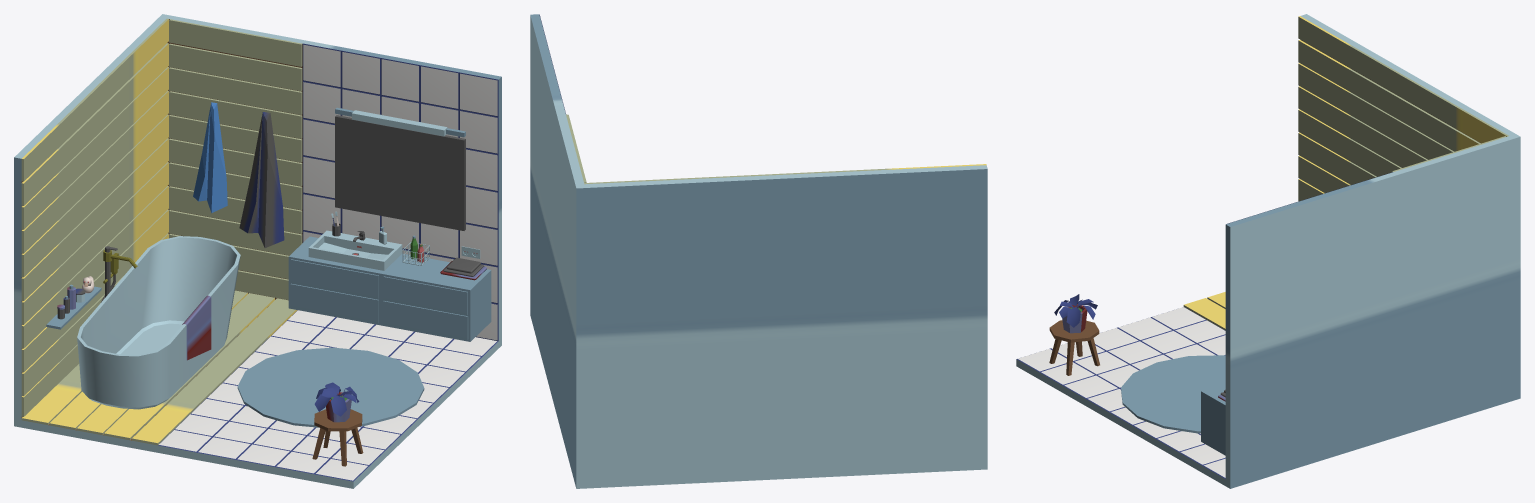
Rendered from Bathroom_2.fbx.
The picture shows the model from 3 angles, left to right: view 1: azimuth 30°, elevation 25°; view 2: azimuth 150°, elevation 25°; view 3: azimuth 270°, elevation 25°; orthographic projection. The views are drawn at different scales.
Visible parts, largest first — view 1: Bathroom2_parquet, Bathroom2_floortile, Bathroom2_bathroom, Bathroom2_washbasin1, Bathroom2_mirror, Bathroom2_base, Bathroom2_carpet, Bathroom2_towel3, Bathroom2_towel4, Bathroom2_stool, Bathroom2_towel, Bathroom2_lighting (+4 smaller); view 2: Bathroom2_base, Bathroom2_parquet; view 3: Bathroom2_base, Bathroom2_parquet, Bathroom2_floortile, Bathroom2_carpet, Bathroom2_washbasin1, Bathroom2_stool, Bathroom2_flower.
Part boxes in pixels (x1=…): Bathroom2_parquet: x1=21, y1=18, x2=302, y2=445; Bathroom2_floortile: x1=158, y1=43, x2=498, y2=481; Bathroom2_bathroom: x1=77, y1=236, x2=240, y2=409; Bathroom2_washbasin1: x1=288, y1=230, x2=491, y2=341; Bathroom2_mirror: x1=335, y1=115, x2=465, y2=230; Bathroom2_base: x1=14, y1=14, x2=501, y2=488; Bathroom2_carpet: x1=237, y1=347, x2=424, y2=427; Bathroom2_towel3: x1=239, y1=112, x2=284, y2=247; Bathroom2_towel4: x1=193, y1=102, x2=227, y2=213; Bathroom2_stool: x1=312, y1=409, x2=363, y2=466; Bathroom2_towel: x1=182, y1=295, x2=211, y2=360; Bathroom2_lighting: x1=335, y1=107, x2=465, y2=137; Bathroom2_base: x1=530, y1=14, x2=987, y2=488; Bathroom2_parquet: x1=566, y1=114, x2=986, y2=184; Bathroom2_base: x1=1016, y1=14, x2=1520, y2=488; Bathroom2_parquet: x1=1183, y1=16, x2=1508, y2=330; Bathroom2_floortile: x1=1016, y1=172, x2=1392, y2=478; Bathroom2_carpet: x1=1121, y1=355, x2=1225, y2=433; Bathroom2_washbasin1: x1=1201, y1=383, x2=1225, y2=455; Bathroom2_stool: x1=1049, y1=320, x2=1099, y2=375; Bathroom2_flower: x1=1054, y1=294, x2=1097, y2=333.
Size of the model in its own units: 699 by 401 by 699.
